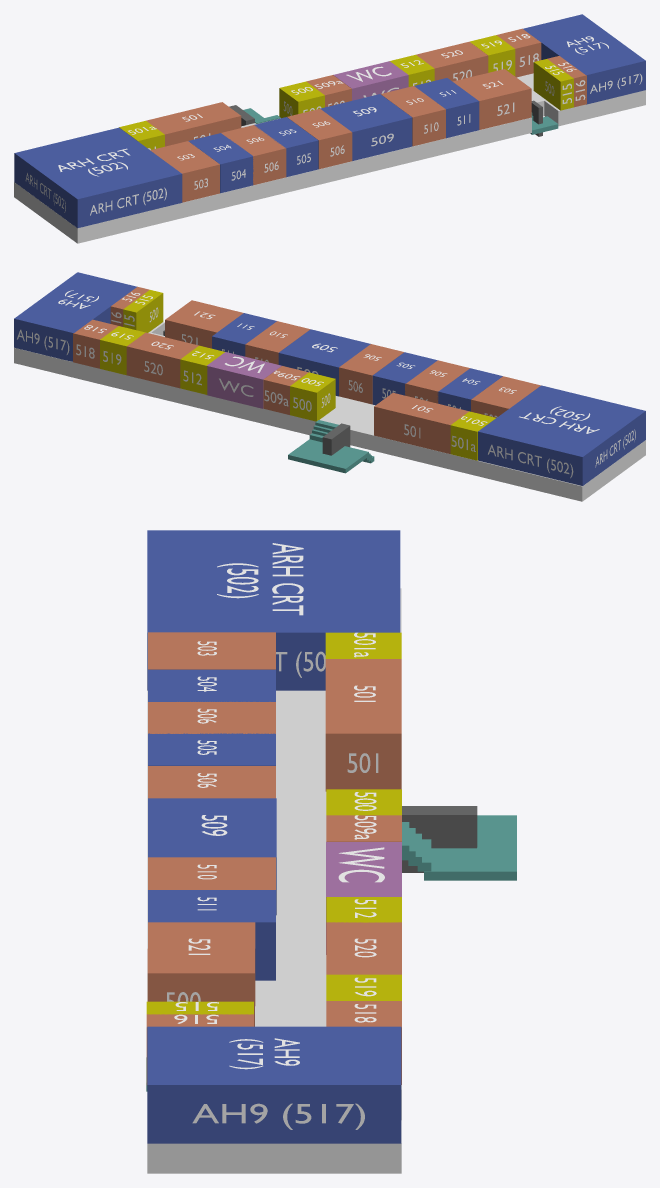
Rendered from NastavniBlokUcionice6.glb.
The picture shows the model from 3 angles, top to bottom: view 1: azimuth 30°, elevation 25°; view 2: azimuth 150°, elevation 25°; view 3: azimuth 270°, elevation 25°; orthographic projection. The views are drawn at different scales.
Parts seen in each view (by area): view 1: 013.002, Cube, ?.002, ?, 013.004, SS.006, SS.002, SS.001, SS, SS.004, SS.005, SS.003 (+16 smaller); view 2: 013.002, Cube, ?.002, 013.004, ?, WC, SS.002, 013.005, SS.003, SS.006, SS.001, SS (+20 smaller); view 3: ?.002, 013.002, Cube, 013.004, Cube.001, ?, 013.009, SS, SS.006, SS.001, SS.002, SS.005 (+21 smaller).
Boxes of the visible parts, x1,y1,x2,y2 form: 013.002: (14,127,182,228); Cube: (14,117,531,243); ?.002: (523,14,645,104); ?: (320,94,412,160); 013.004: (146,102,241,146); SS.006: (150,141,219,202); SS.002: (287,109,352,169); SS.001: (381,86,445,146); SS: (414,78,479,138); SS.004: (221,125,286,185); SS.005: (188,133,253,193); SS.003: (254,117,318,177); 013.002: (478,385,645,485); Cube: (156,382,645,501); ?.002: (14,272,136,361); 013.004: (374,392,468,453); ?: (278,329,370,396); WC: (207,352,281,408); SS.002: (339,344,403,404); 013.005: (290,372,335,421); SS.003: (372,352,437,405); SS.006: (471,376,540,417); SS.001: (245,321,310,364); SS: (212,313,276,356); ?.002: (147,1026,401,1143); 013.002: (147,530,400,690); Cube: (147,588,401,1003); 013.004: (325,659,401,791); Cube.001: (147,1090,401,1173); ?: (148,798,276,915); 013.009: (147,948,254,1026); SS: (148,890,275,980); SS.006: (148,632,275,669); SS.001: (148,857,275,889); SS.002: (148,766,275,798); SS.005: (148,669,275,701).
Size of the model in its own units: 41.83 by 3.92 by 11.87.
